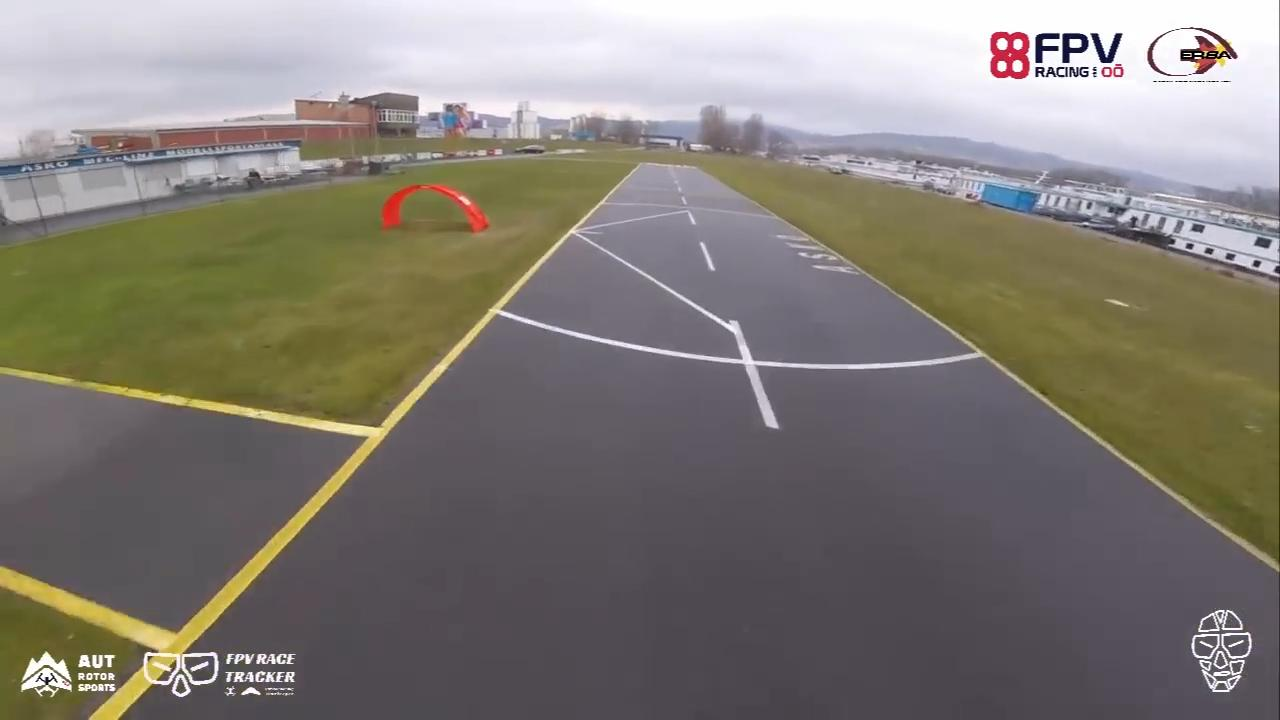gate: (378, 181, 485, 233)
